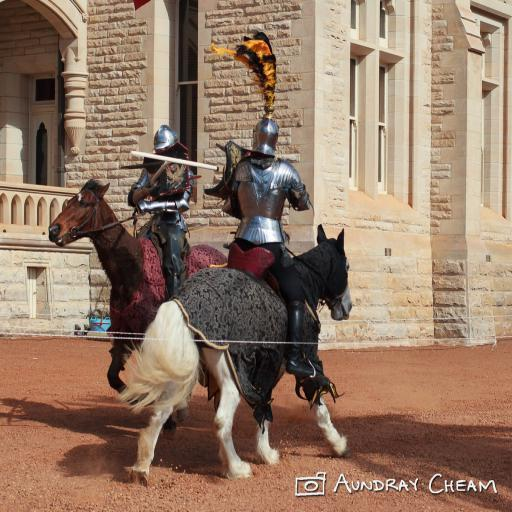horse: (114, 222, 354, 481), (48, 178, 232, 437)
